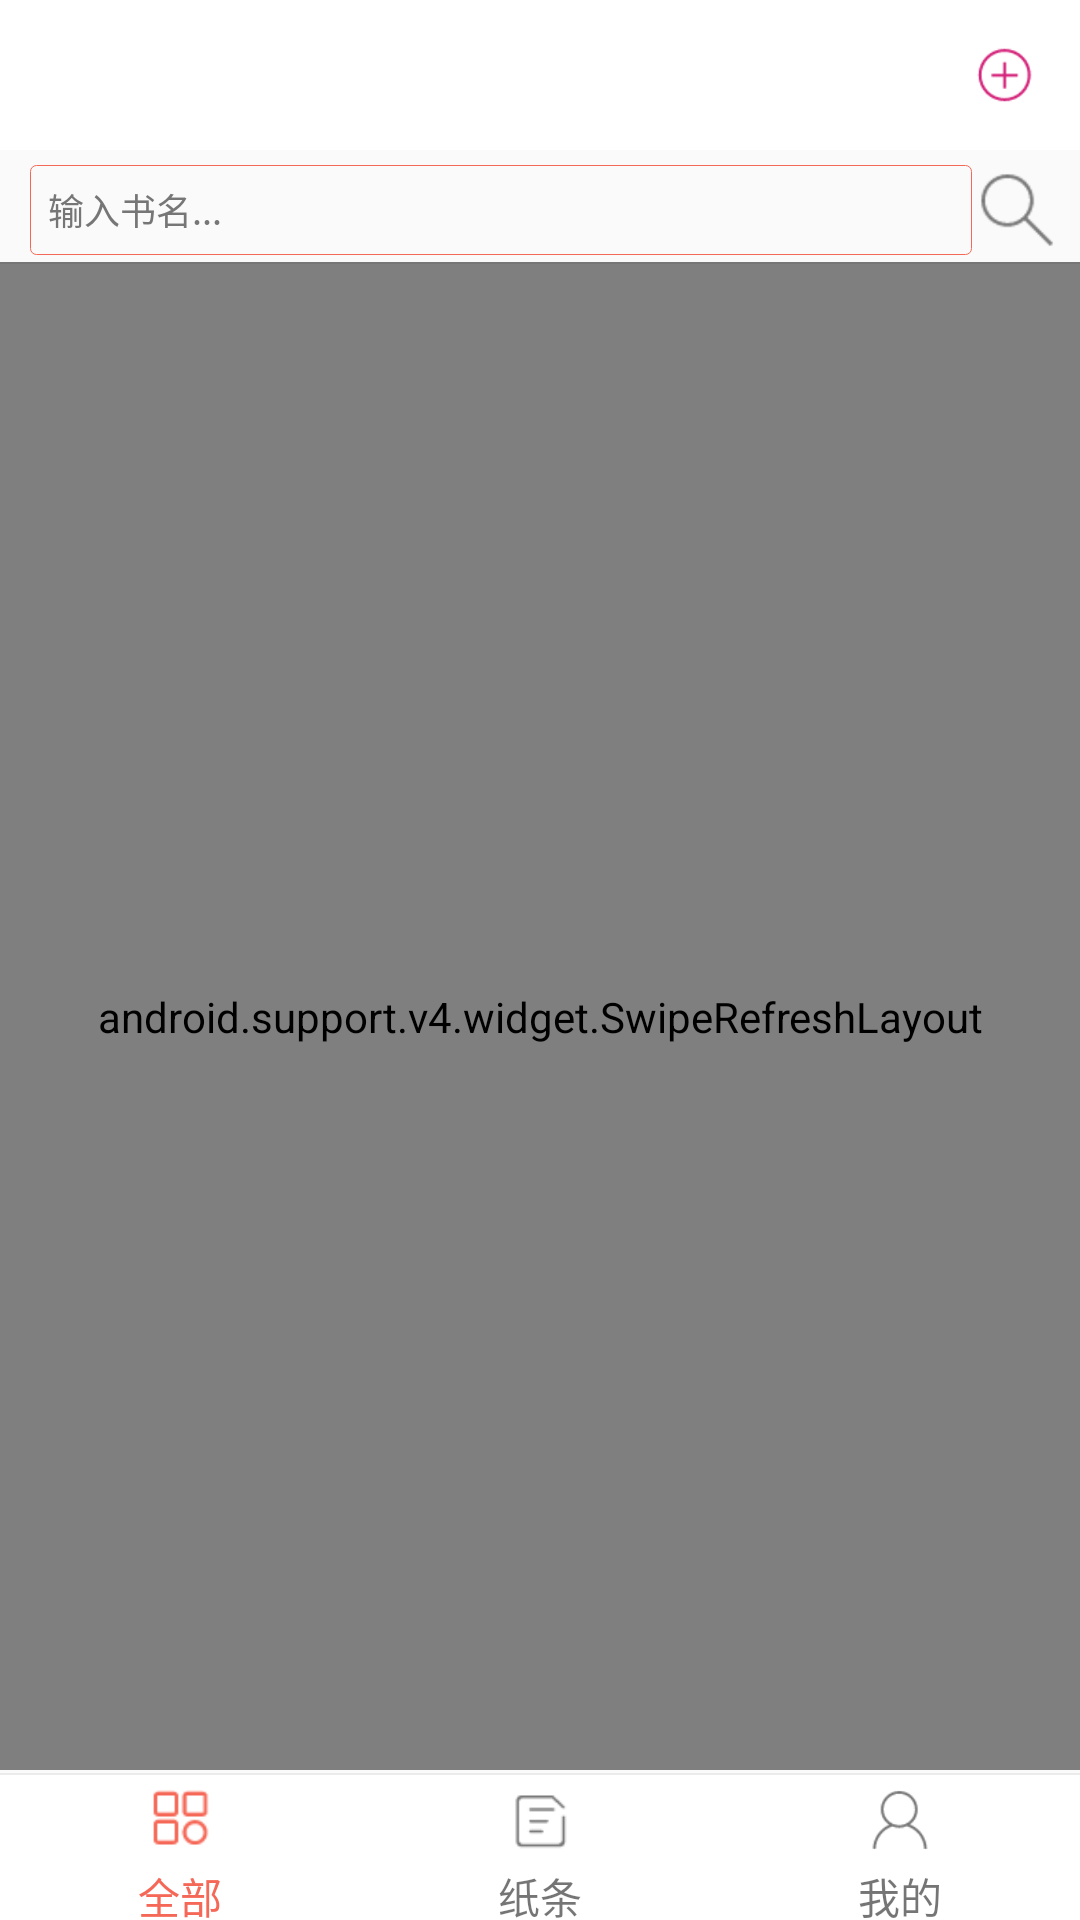

Icon bounding boxes for this 1080*1920 phone screenshot, format bbox=[x1, y1, x2, y2]:
add: bbox=[978, 48, 1032, 102]
sousuo: bbox=[981, 174, 1053, 246]
